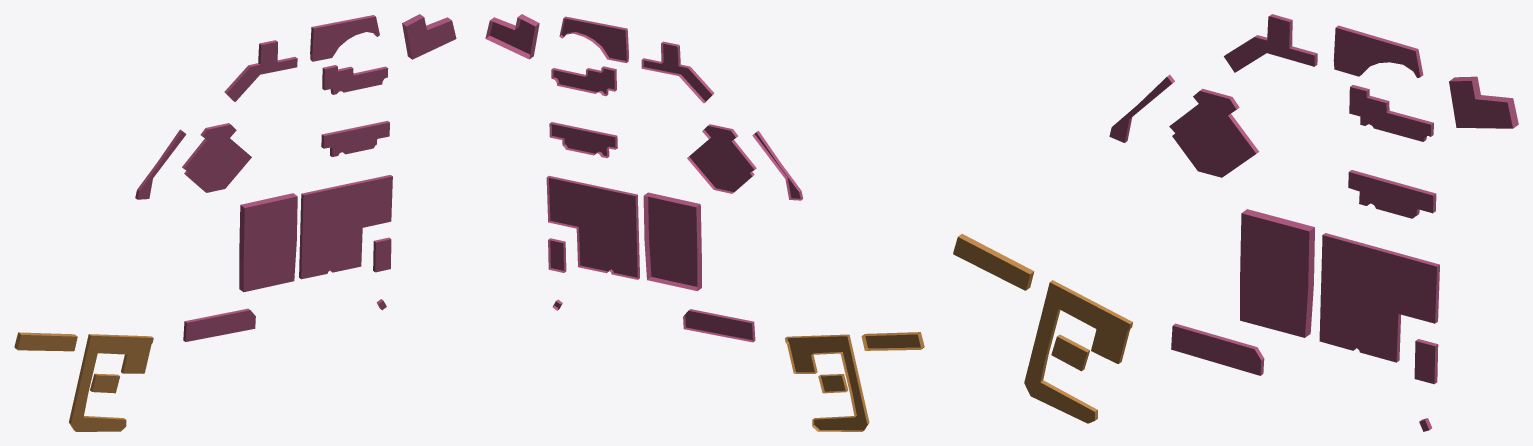
The model's file is buildings_k23.obj.
3 views of the same model, side by side, from view 1: azimuth 30°, elevation 25°; view 2: azimuth 150°, elevation 25°; view 3: azimuth 330°, elevation 25° (orthographic). The views are drawn at different scales.
Parts seen in each view (by area): view 1: roof1, roof2, zone1, zone2; view 2: roof1, zone1, roof2, zone2; view 3: roof1, roof2, zone1, zone2.
Boxes of the visible parts, left/top/right/bottom form: roof1: left=137, top=16, right=456, bottom=341; roof2: left=17, top=335, right=153, bottom=431; zone1: left=135, top=14, right=451, bottom=341; zone2: left=14, top=332, right=153, bottom=431; roof1: left=490, top=18, right=800, bottom=340; zone1: left=485, top=14, right=803, bottom=342; roof2: left=787, top=334, right=920, bottom=430; zone2: left=785, top=332, right=924, bottom=431; roof1: left=1109, top=16, right=1512, bottom=431; roof2: left=953, top=237, right=1130, bottom=423; zone1: left=1124, top=14, right=1518, bottom=429; zone2: left=958, top=234, right=1132, bottom=420.
Size of the model in its own units: 477 by 371 by 8.5.
